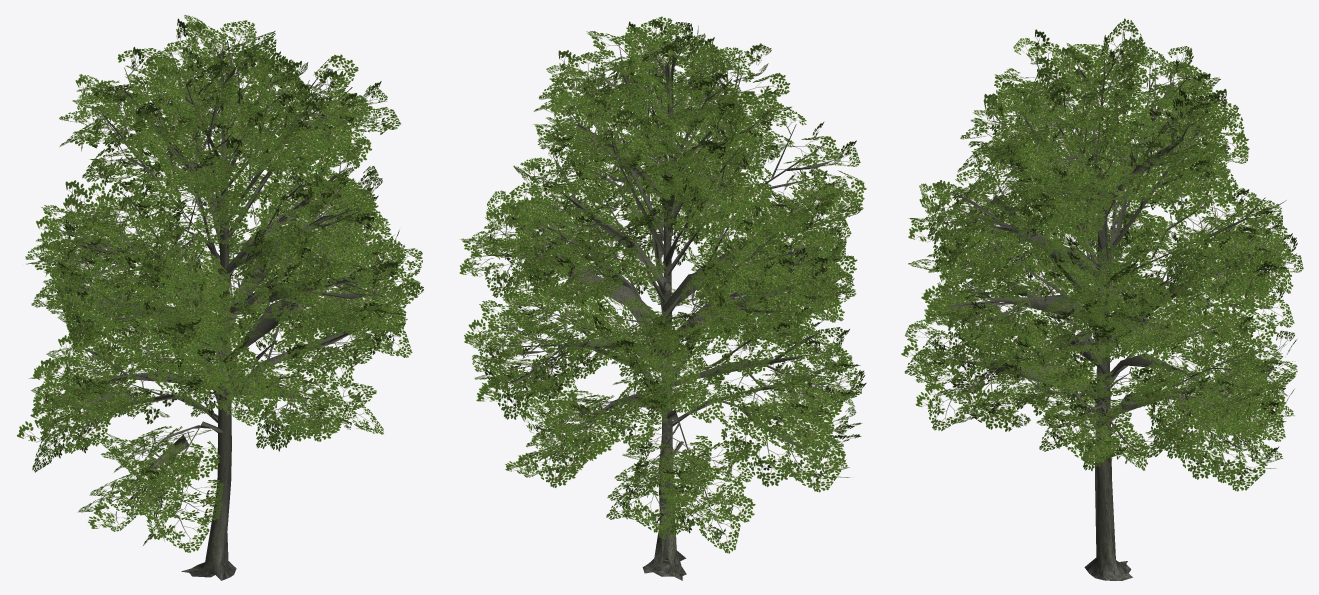
Rendered from tree_014.glb.
The picture shows the model from 3 angles, left to right: view 1: azimuth 30°, elevation 25°; view 2: azimuth 150°, elevation 25°; view 3: azimuth 270°, elevation 25°; orthographic projection. The views are drawn at different scales.
Visible parts, largest first — view 1: Tree_014; view 2: Tree_014; view 3: Tree_014.
Boxes of the visible parts, <box> form: Tree_014: <box>16,15,423,580</box>; Tree_014: <box>459,16,866,580</box>; Tree_014: <box>901,18,1303,580</box>.
Size of the model in its own units: 5.67 by 8.28 by 5.58.
2 materials, 2 textured.
